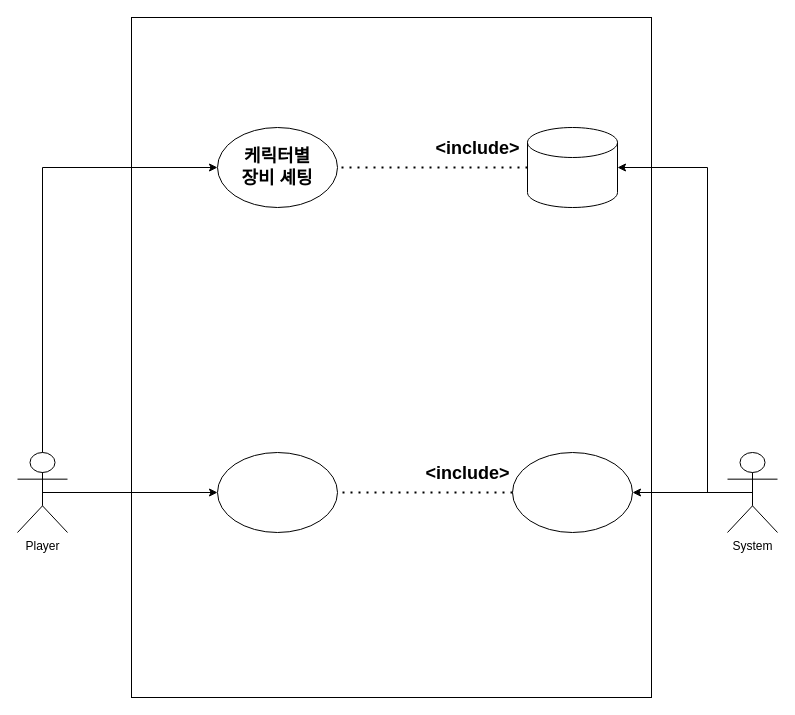
This 795x715 diagram has some shape labels left out. The shapes that lost their labels are listed below. From the top down, each one's centre as x and y in pixels, then its label:
At [572,167]: "데이터 베이스".
At [572,492]: "UI 출력".
